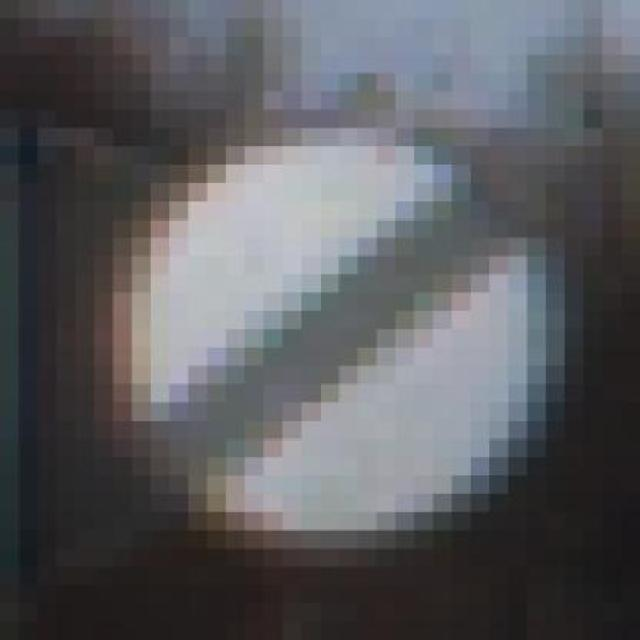End of all speed and passing limits: (94, 110, 583, 567)
